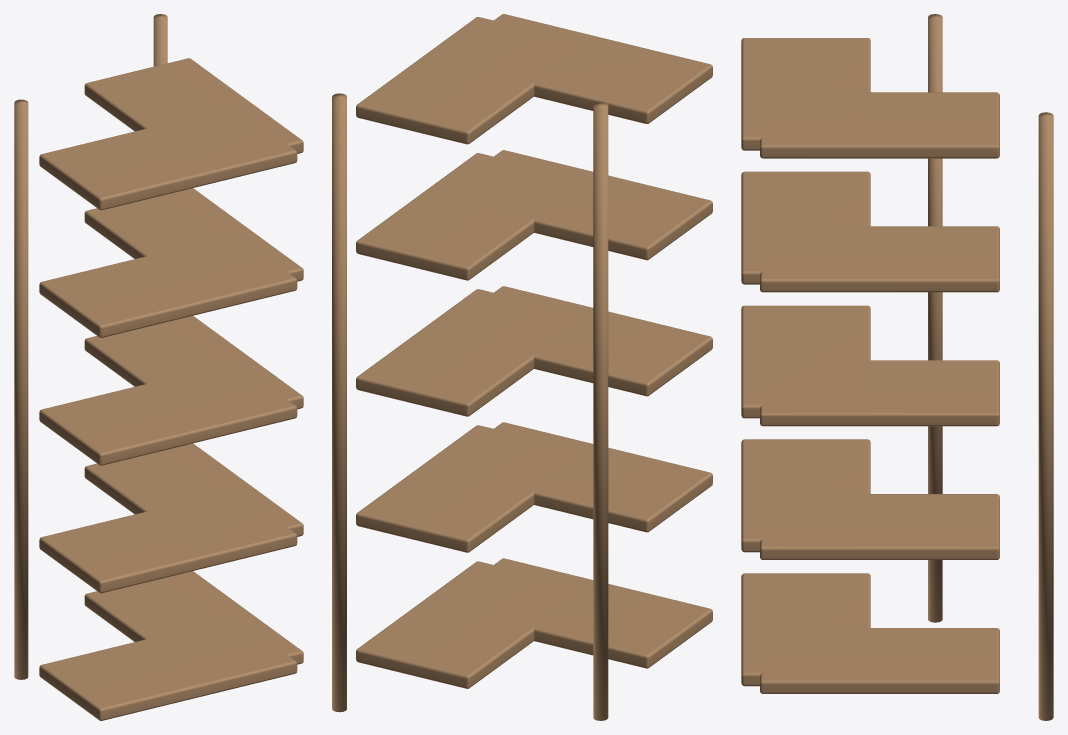
Rendered from atelier-corner-shelf.glb.
3 views of the same model, side by side, from view 1: azimuth 30°, elevation 25°; view 2: azimuth 150°, elevation 25°; view 3: azimuth 270°, elevation 25° (orthographic). The views are drawn at different scales.
Visible parts, largest first — view 1: legs.082; view 2: legs.082; view 3: legs.082.
Part boxes in pixels (x1,y1,x2,y2): legs.082: (14, 14, 303, 720); legs.082: (332, 14, 712, 720); legs.082: (741, 14, 1053, 720).
Bounding box in the file's own units: 0.7 × 1.8 × 0.845.
